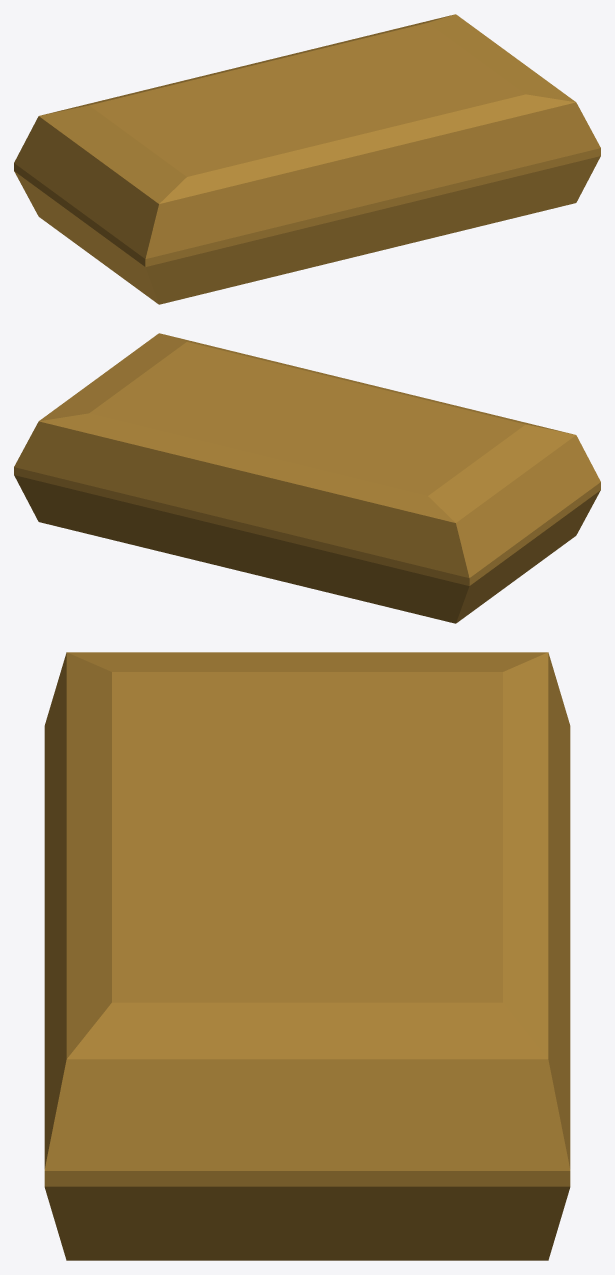
Rendered from Sandbag.fbx.
The picture shows the model from 3 angles, top to bottom: view 1: azimuth 30°, elevation 25°; view 2: azimuth 150°, elevation 25°; view 3: azimuth 270°, elevation 25°; orthographic projection. The views are drawn at different scales.
Visible parts, largest first — view 1: Sand Bag; view 2: Sand Bag; view 3: Sand Bag.
Boxes of the visible parts, left/top/right/bottom form: Sand Bag: left=14, top=14, right=600, bottom=304; Sand Bag: left=14, top=333, right=600, bottom=623; Sand Bag: left=44, top=652, right=570, bottom=1260.
Bounding box in the file's own units: 200 × 50 × 100.
